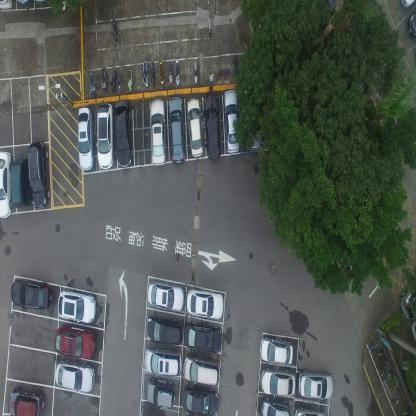car: (26, 137, 48, 209), (57, 287, 97, 324), (113, 97, 134, 166), (54, 325, 96, 359), (55, 358, 95, 393), (10, 278, 52, 310), (96, 99, 114, 169), (185, 288, 224, 320), (168, 95, 186, 164), (183, 322, 223, 353), (146, 280, 184, 312), (203, 93, 221, 160), (149, 96, 166, 166), (183, 355, 220, 387), (76, 104, 94, 169), (244, 89, 262, 154), (222, 90, 240, 154), (298, 368, 334, 400), (145, 316, 183, 346), (143, 348, 181, 377), (260, 367, 296, 397), (8, 386, 45, 415), (181, 387, 219, 415), (258, 336, 293, 366), (186, 98, 203, 159), (146, 378, 176, 410), (0, 148, 13, 221), (12, 155, 29, 207), (399, 279, 415, 320), (260, 396, 291, 415), (293, 405, 326, 415)
